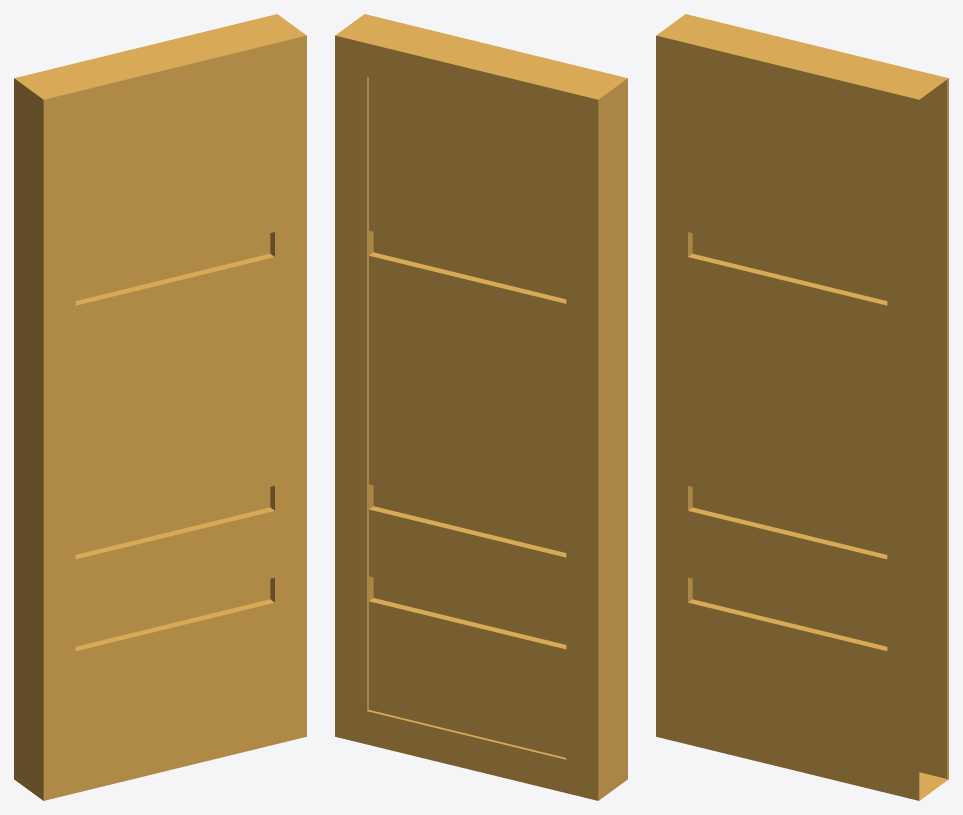
The model's file is 速食店.fbx_側門__左右對稱.fbx.
The picture shows the model from 3 angles, left to right: view 1: azimuth 30°, elevation 25°; view 2: azimuth 150°, elevation 25°; view 3: azimuth 330°, elevation 25°; orthographic projection.
Parts seen in each view (by area): view 1: side door L; view 2: side door L; view 3: side door L.
Boxes of the visible parts, x1,y1,x2,y2 form: side door L: [14, 14, 306, 800]; side door L: [335, 14, 627, 800]; side door L: [656, 14, 948, 800].
Bounding box in the file's own units: 165 × 420 × 32.
